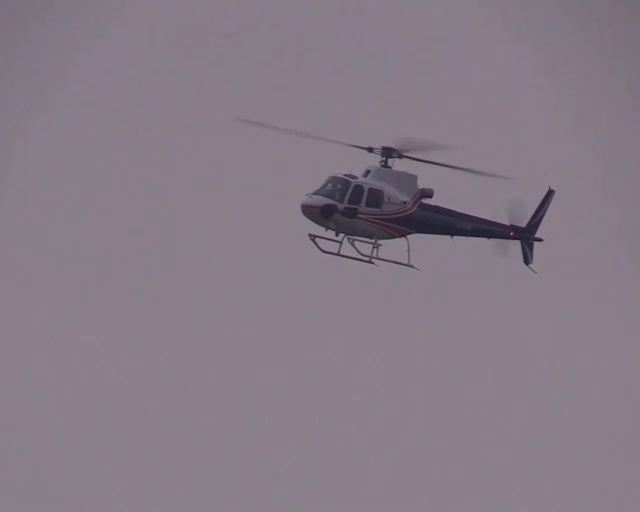HELICOPTER: (237, 117, 553, 272)
